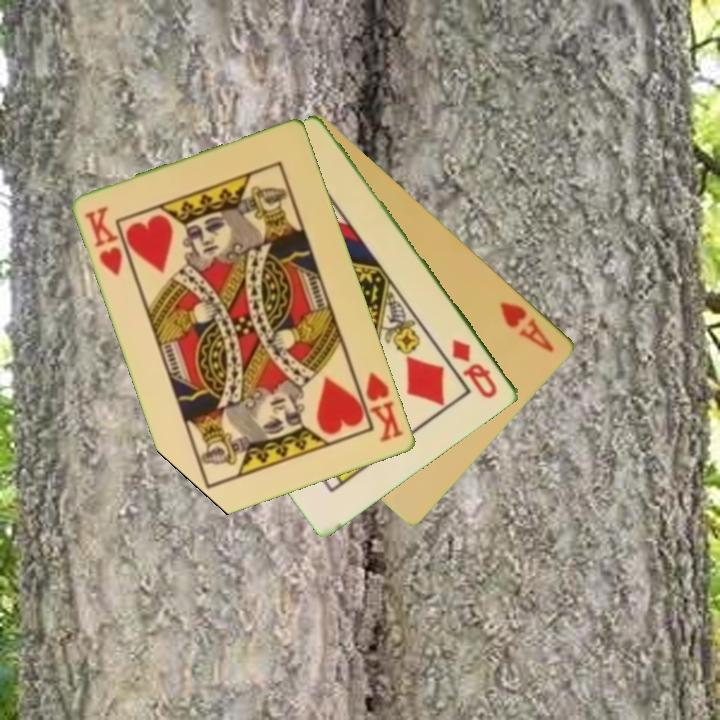Ah: (496, 298, 558, 356)
Kh: (352, 368, 408, 445), (81, 203, 126, 279)
Qd: (448, 335, 501, 402)
